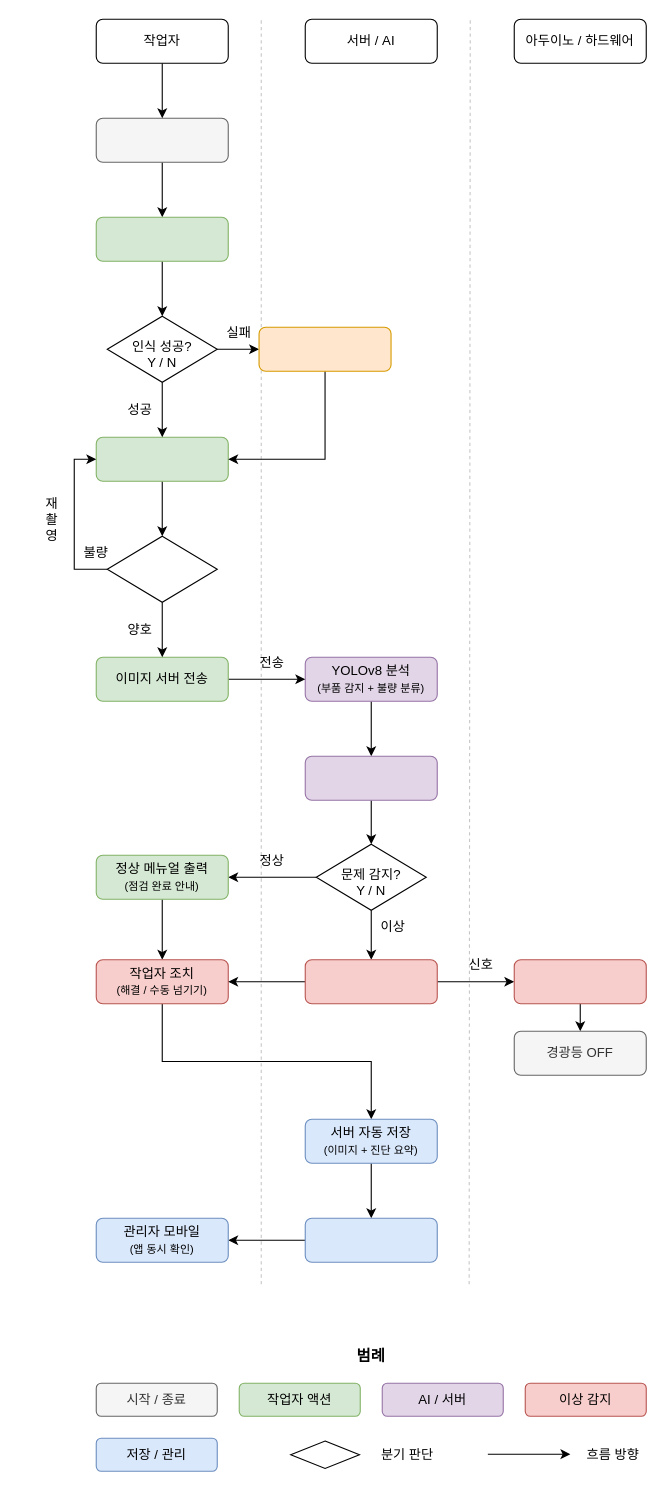
Some shapes in this 666 by 1491 pixel diagram are drawn without their labels. Each missing label, with the centre of its shape:
Gemini API (진단 결과 + 메뉴얼 생성): point (370, 777)
QR / NFC 인식 (분전반 종류 파악): point (161, 238)
경광등 점등 (아두이노 + 릴레이): point (579, 981)
관리자 웹 대시보드 (이력 조회 + 통계): point (370, 1239)
문 열고 사진 촬영 (앱을 통해 촬영): point (161, 458)
문제점 + 메뉴얼 출력 (조치 방법 안내): point (370, 981)
분전반 앞 도착: point (161, 139)
수동 입력 (분전반ID 직접 입력): point (324, 348)
품질 양호? Y / N: point (161, 568)
